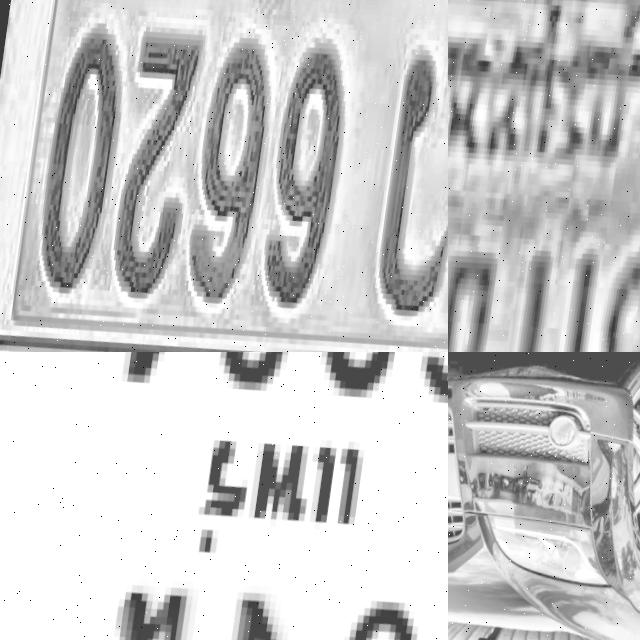license-plate: (0, 0, 448, 352), (0, 352, 448, 640), (448, 0, 640, 352)
